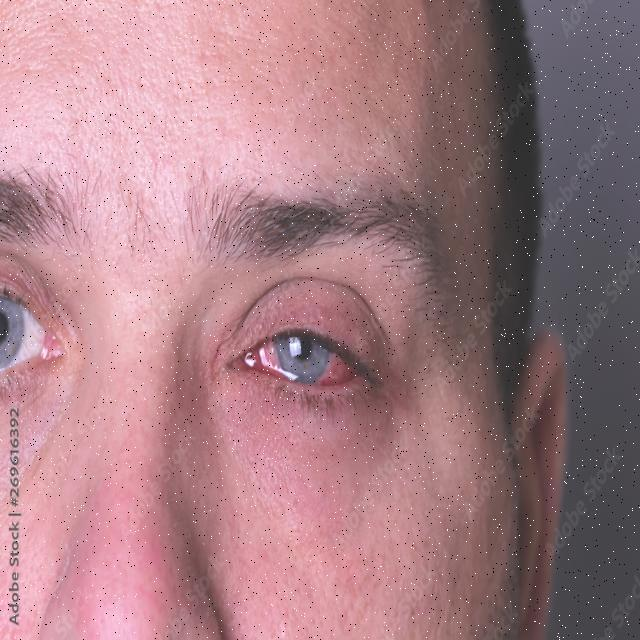Conjunctivitis: (234, 338, 372, 389)
